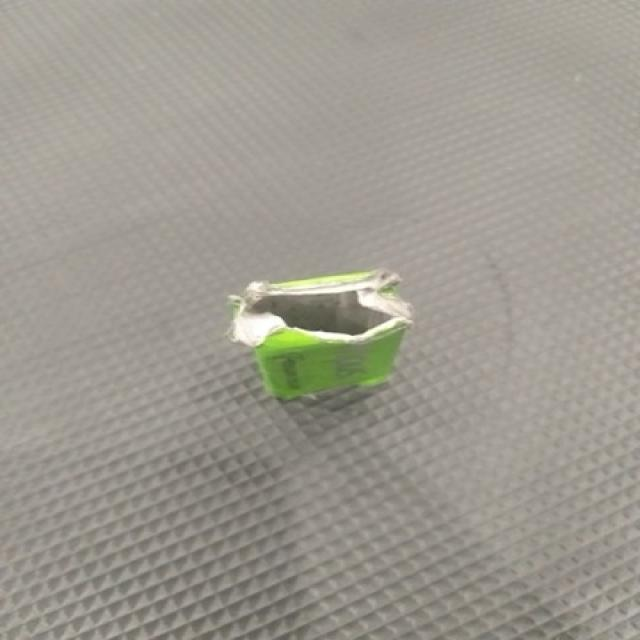PaperCardboard: (231, 272, 420, 405)
